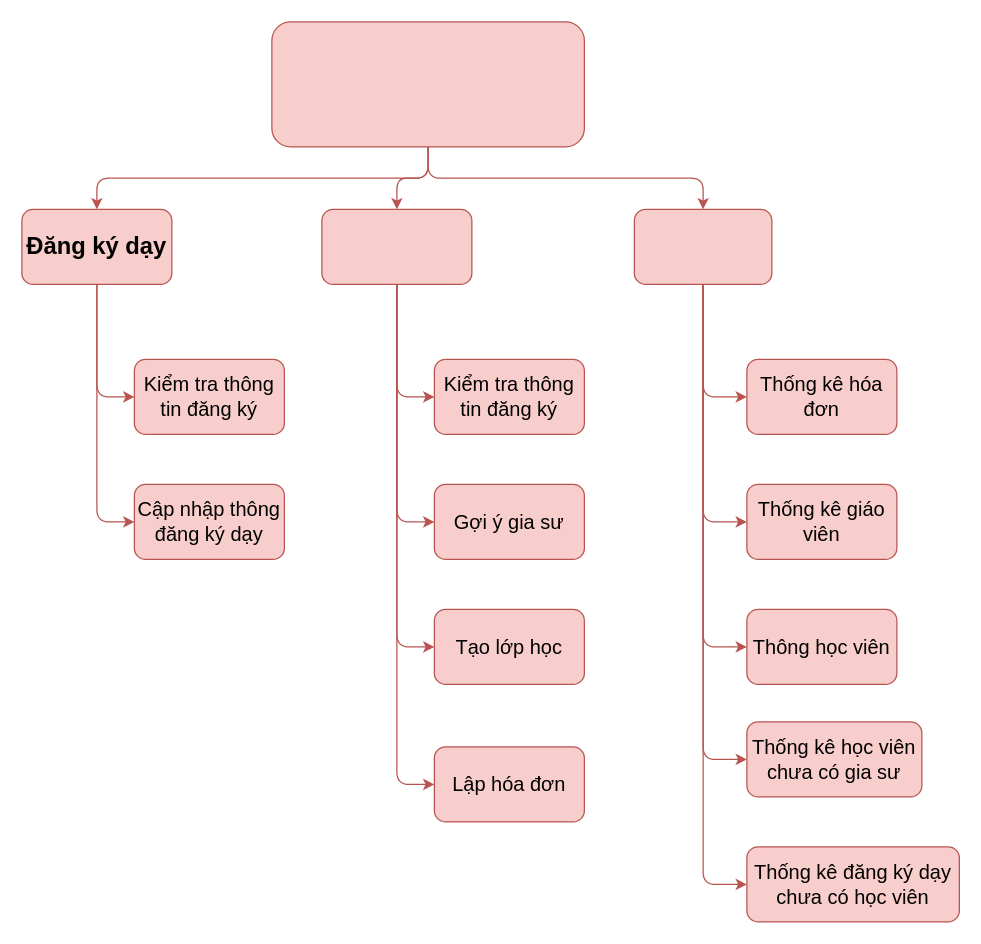
Image size: 981x944. Some labels were removed from this diagram. The box of each missing label's shape, as (x1, y1, x2, y2) in pixels:
Quản lý trung tâm gia sư: (271, 21, 584, 147)
Thống kê: (633, 208, 772, 284)
Đăng ký tuyển gia sư: (321, 208, 472, 284)
